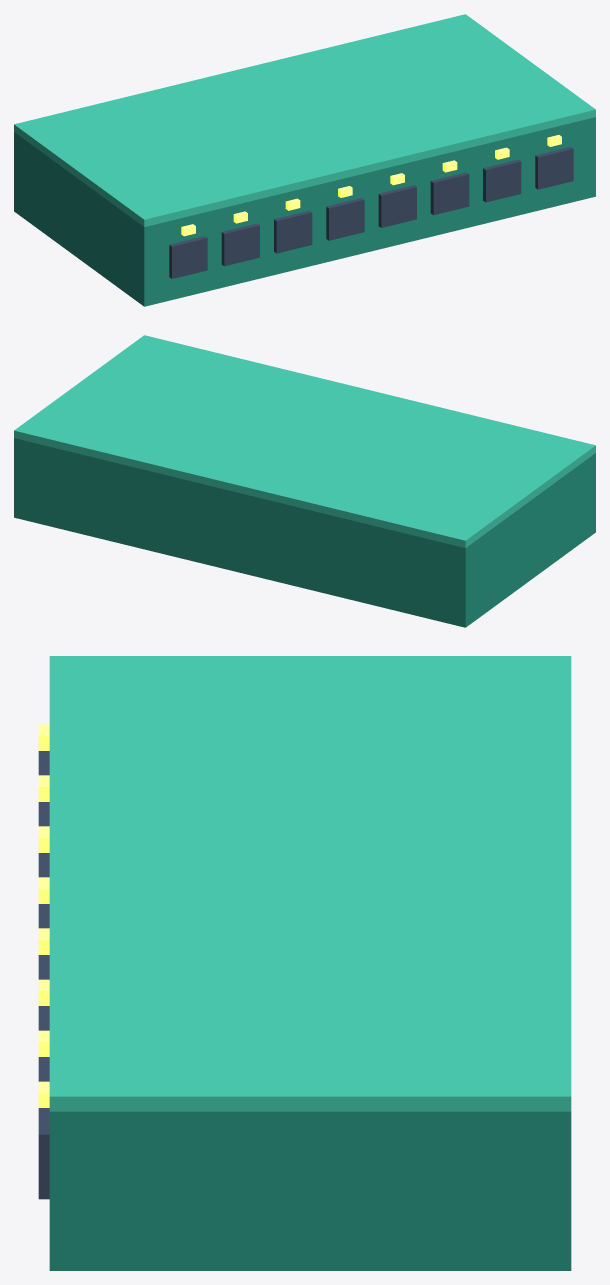
The model's file is switch.glb.
3 views of the same model, one above another, from view 1: azimuth 30°, elevation 25°; view 2: azimuth 150°, elevation 25°; view 3: azimuth 270°, elevation 25° (orthographic). The views are drawn at different scales.
Parts seen in each view (by area): view 1: switch; view 2: switch; view 3: switch.
Boxes of the visible parts, box(x1,y1,x2,y2) form: switch: box(14, 14, 595, 306); switch: box(14, 335, 595, 627); switch: box(38, 656, 571, 1270).
Size of the model in its own units: 1.9 by 0.35 by 0.97.
